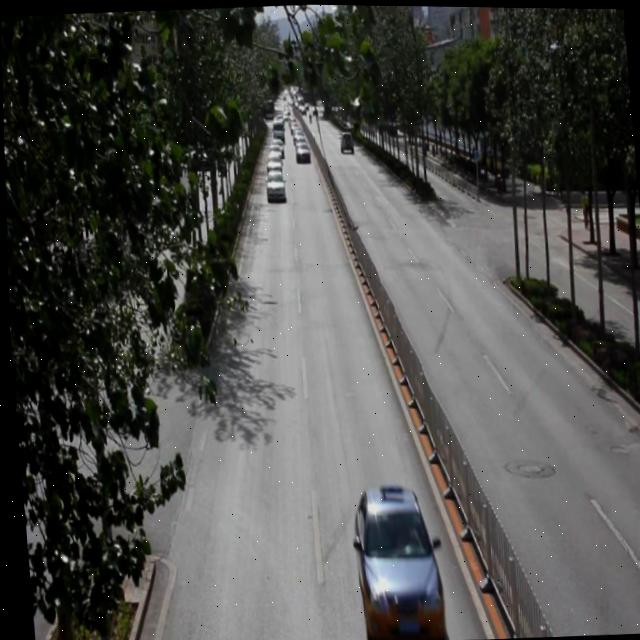car: (348, 481, 443, 634), (264, 168, 285, 201)
